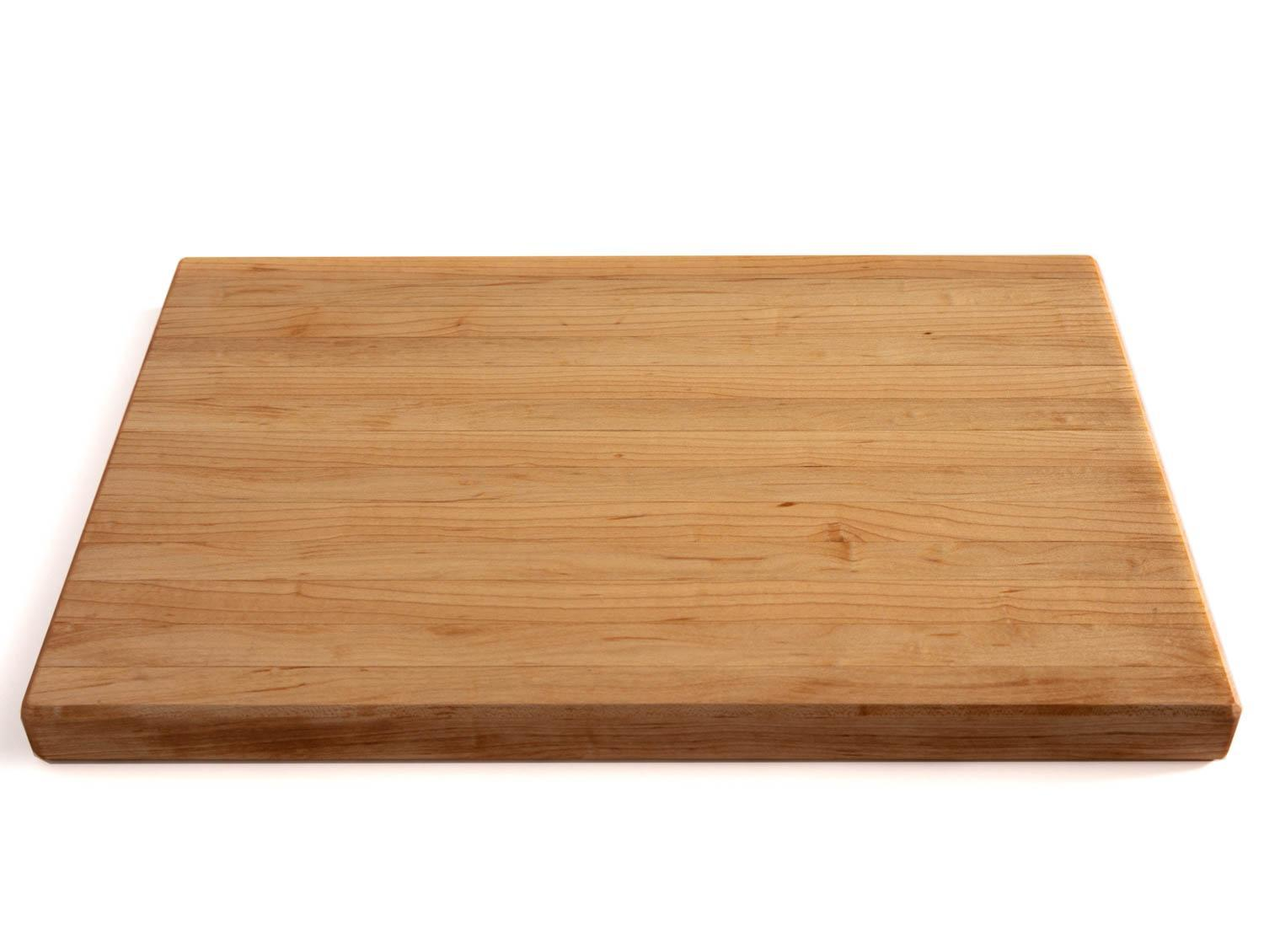gloved_hand: (21, 226, 1248, 800)
